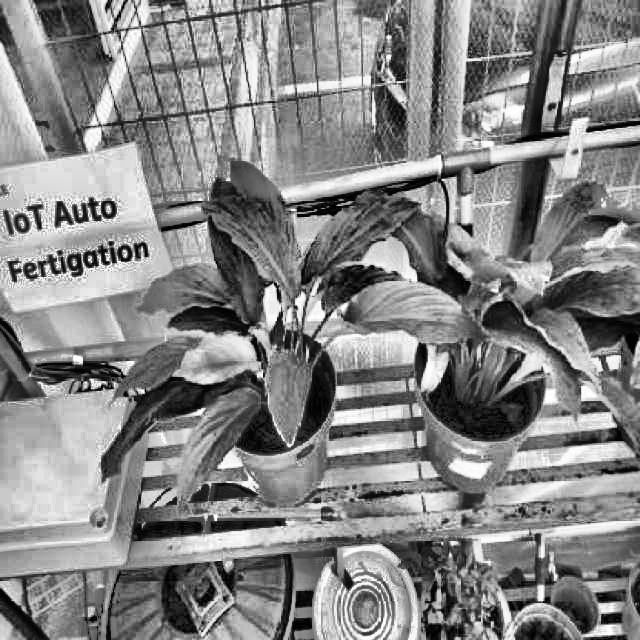plants: (99, 154, 484, 516), (364, 178, 638, 464)
